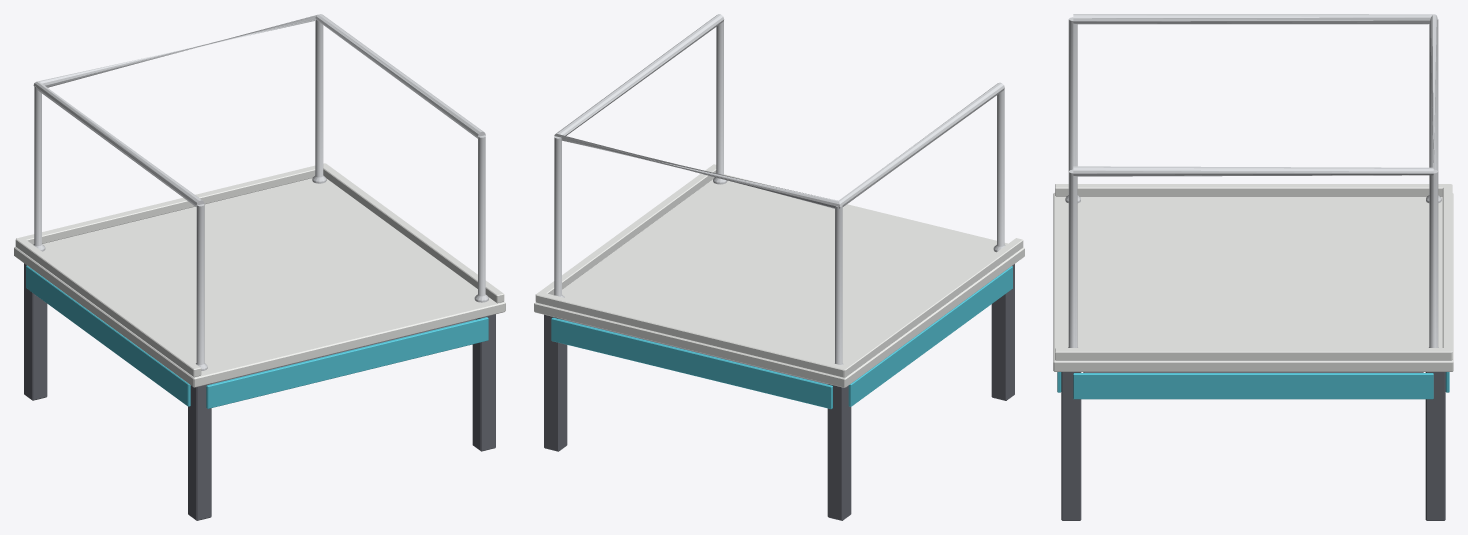
Rendered from laser-tag-arena-and-activity-centre-raised-platform-de-a795b789__34476.glb.
The picture shows the model from 3 angles, left to right: view 1: azimuth 30°, elevation 25°; view 2: azimuth 150°, elevation 25°; view 3: azimuth 270°, elevation 25°; orthographic projection. The views are drawn at different scales.
Parts seen in each view (by area): view 1: raised-platform-deck; view 2: raised-platform-deck; view 3: raised-platform-deck.
Part boxes in pixels (left/top/right/bottom): raised-platform-deck: left=14, top=14, right=505, bottom=520; raised-platform-deck: left=534, top=14, right=1024, bottom=520; raised-platform-deck: left=1053, top=14, right=1453, bottom=520.
Size of the model in its own units: 2 by 1.92 by 2.
